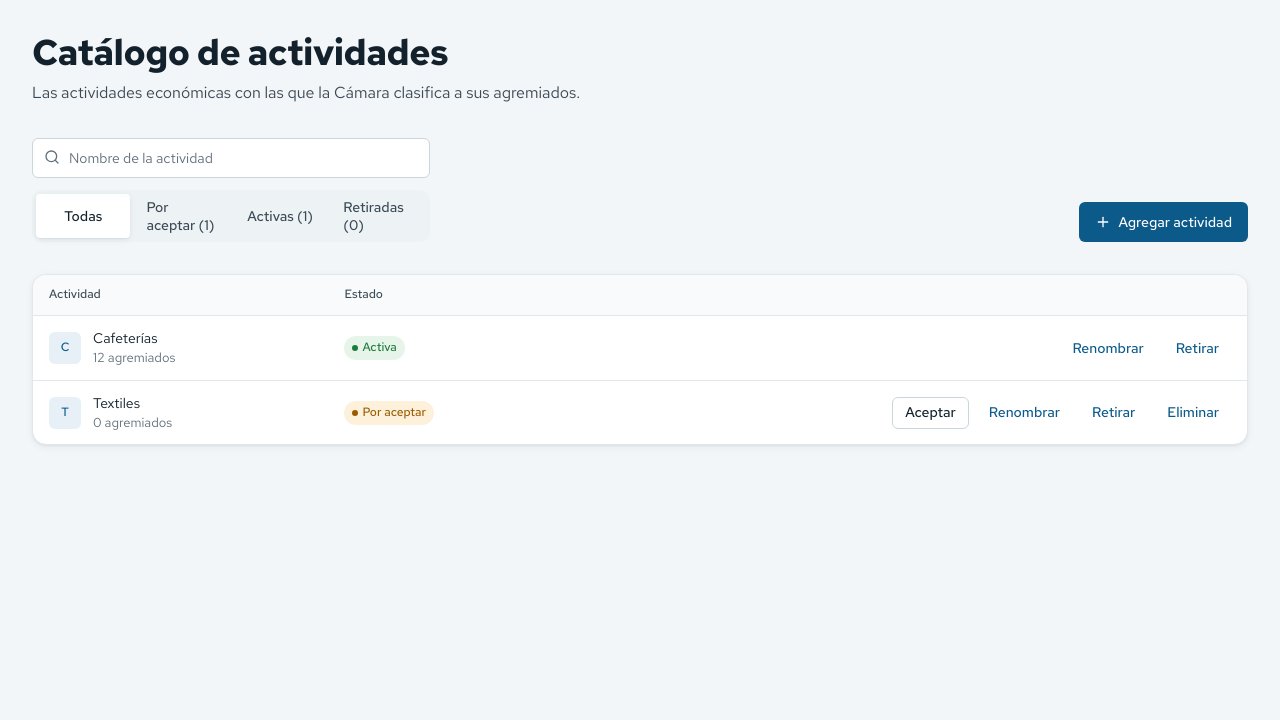
Test: ActivitiesPage › adds an activity by name and confirms with a toast
Click the button "Agregar actividad": (1163, 222) [1078,202,1248,242]
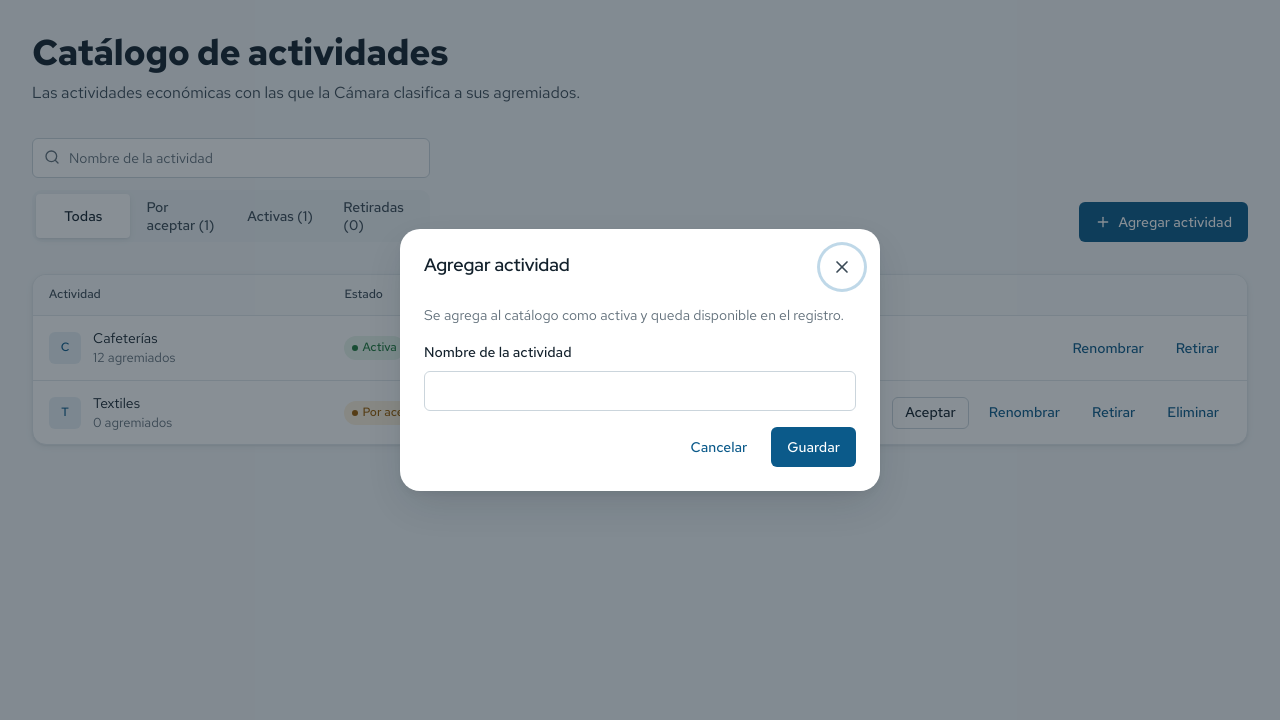
In the field labelled "Nombre de la actividad": (640, 391) [424,371,856,411], type "Artesanías"
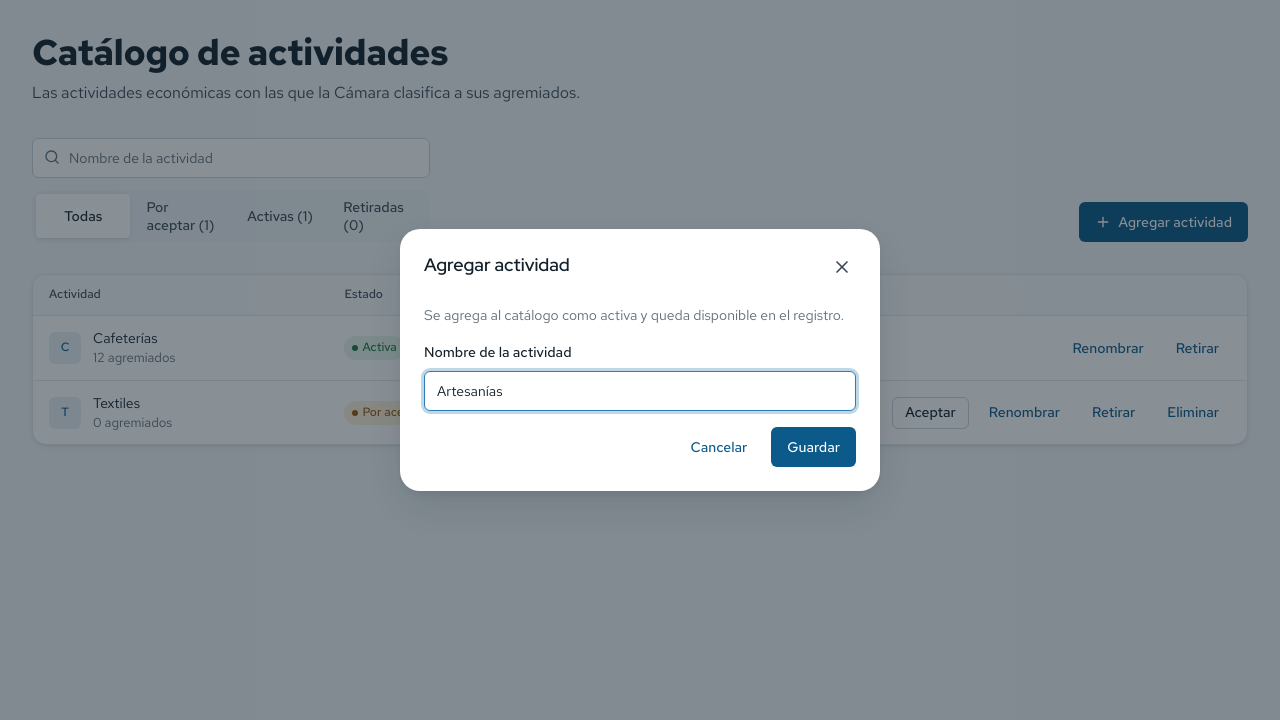
Click the button "Guardar": (814, 447) [771,427,856,467]
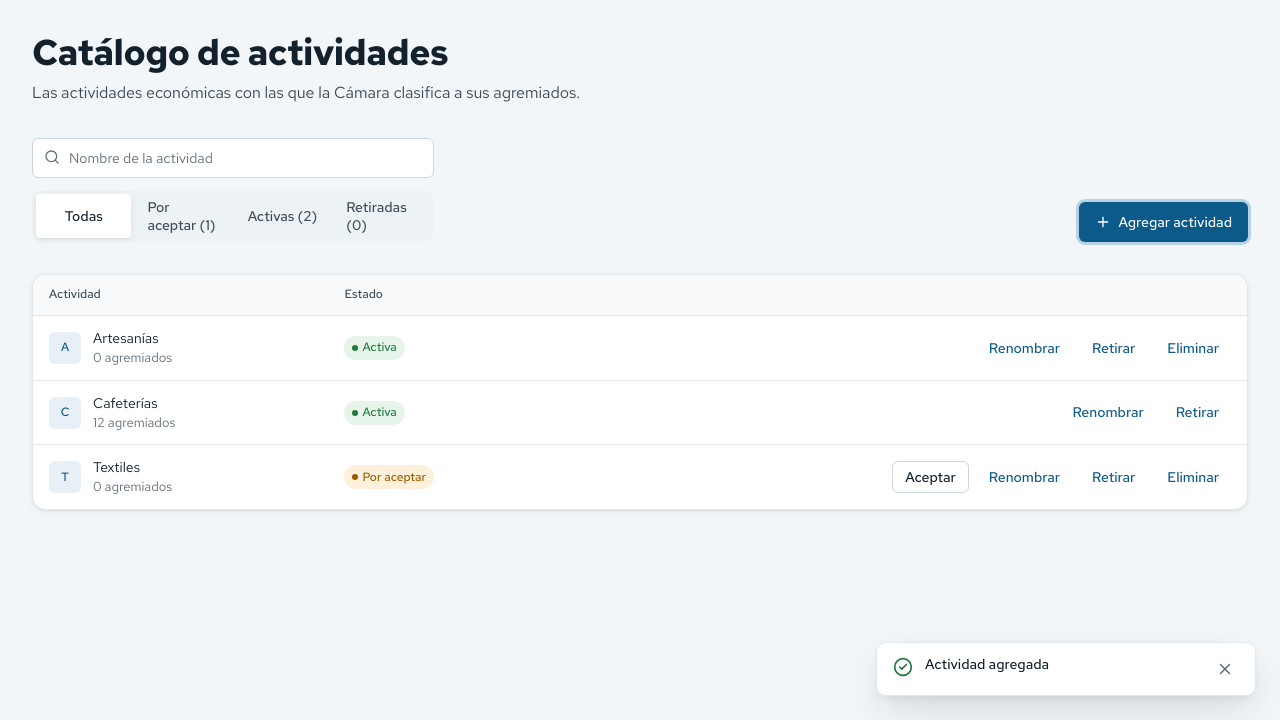
Expected: the text "Actividad agregada" is shown, [925,655,1049,673]
